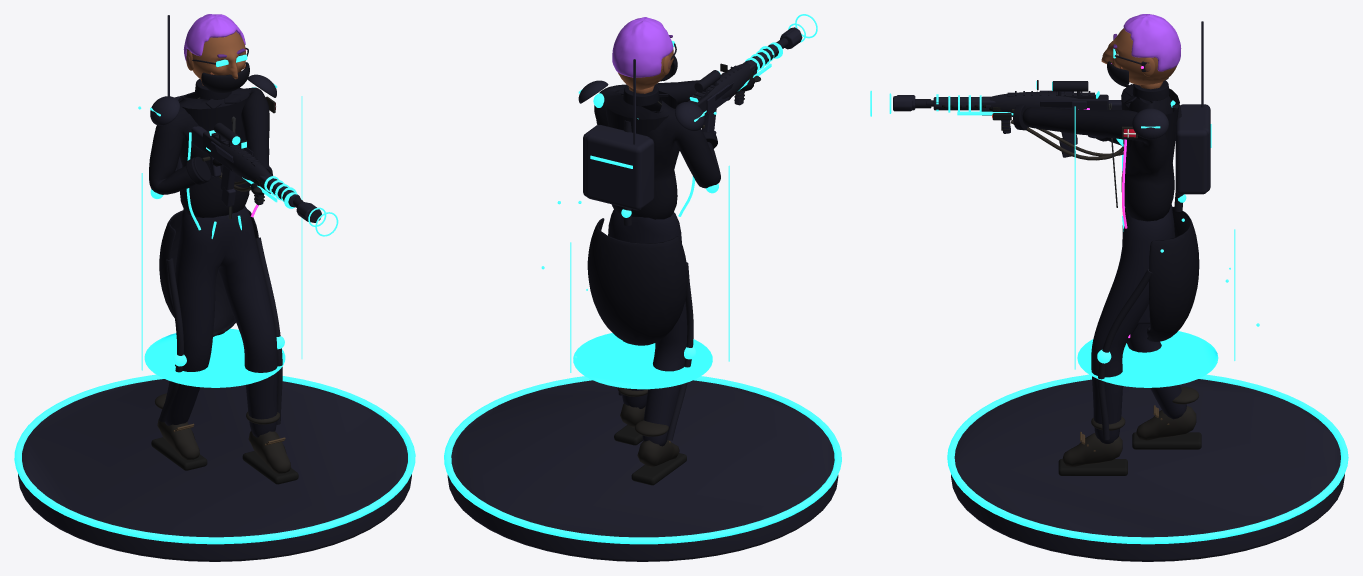
The model's file is vagt_neon.glb.
3 renders of one model, left to right at view 1: azimuth 30°, elevation 25°; view 2: azimuth 150°, elevation 25°; view 3: azimuth 270°, elevation 25°, orthographic.
Parts seen in each view (by area): view 1: fod_net, menneske_net, op4.001_net, hoved_net, op4_net, vaaben_net, op3.001_net, op4.002_net, op1.001_net, op3_net; view 2: fod_net, menneske_net, op4_net, op4.001_net, hoved_net, vaaben_net, op3.001_net, ned4_net, op4.002_net, op3_net, op1.001_net; view 3: fod_net, menneske_net, op4.001_net, hoved_net, ned4_net, op4_net, vaaben_net, op1.001_net, op3.001_net, op4.002_net, op3_net.
Boxes of the visible parts, x1=… form: fod_net: x1=14, y1=374, x2=415, y2=561; menneske_net: x1=149, y1=79, x2=298, y2=484; op4.001_net: x1=138, y1=96, x2=302, y2=387; hoved_net: x1=183, y1=14, x2=249, y2=92; op4_net: x1=150, y1=87, x2=284, y2=424; vaaben_net: x1=191, y1=126, x2=303, y2=207; op3.001_net: x1=150, y1=15, x2=277, y2=125; op4.002_net: x1=242, y1=176, x2=338, y2=236; op1.001_net: x1=206, y1=122, x2=294, y2=202; op3_net: x1=209, y1=130, x2=300, y2=207; fod_net: x1=444, y1=376, x2=841, y2=561; menneske_net: x1=587, y1=75, x2=760, y2=485; op4_net: x1=586, y1=93, x2=718, y2=440; op4.001_net: x1=541, y1=111, x2=729, y2=389; hoved_net: x1=612, y1=17, x2=677, y2=89; vaaben_net: x1=687, y1=38, x2=788, y2=116; op3.001_net: x1=578, y1=59, x2=704, y2=144; ned4_net: x1=583, y1=125, x2=649, y2=196; op4.002_net: x1=637, y1=14, x2=817, y2=119; op3_net: x1=689, y1=44, x2=778, y2=114; op1.001_net: x1=694, y1=70, x2=753, y2=132; fod_net: x1=947, y1=374, x2=1348, y2=561; menneske_net: x1=1011, y1=80, x2=1201, y2=475; op4.001_net: x1=1074, y1=106, x2=1259, y2=387; hoved_net: x1=1101, y1=14, x2=1181, y2=87; ned4_net: x1=1175, y1=106, x2=1208, y2=194; op4_net: x1=1097, y1=104, x2=1211, y2=439; vaaben_net: x1=915, y1=90, x2=1154, y2=138; op1.001_net: x1=931, y1=81, x2=1123, y2=160; op3.001_net: x1=1132, y1=21, x2=1203, y2=139; op4.002_net: x1=870, y1=90, x2=1175, y2=146; op3_net: x1=933, y1=91, x2=1099, y2=110.
Size of the model in its own units: 1.94 by 2.47 by 2.31.
